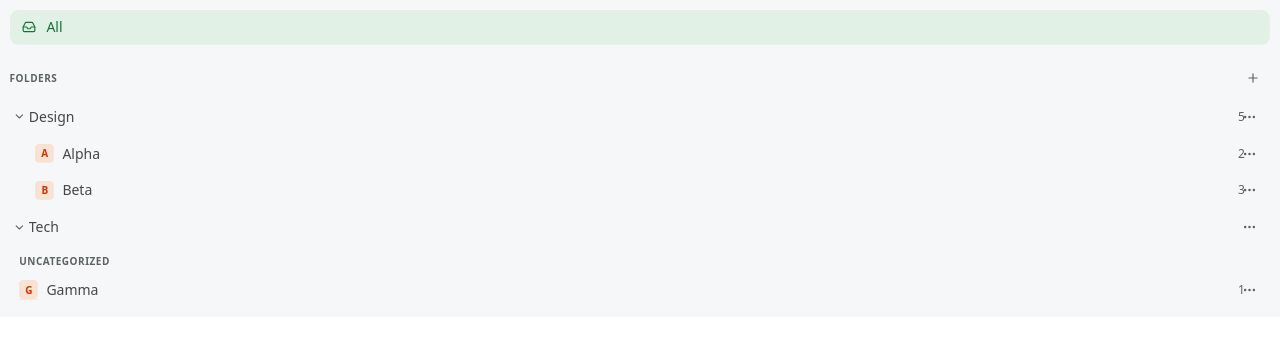
Test: RAD-393: create › creates a folder inline from the + button
This screenshot has width=1280, height=353.
Click the button named "New folder". click: (1253, 78)
box: [1235, 61, 1270, 96]
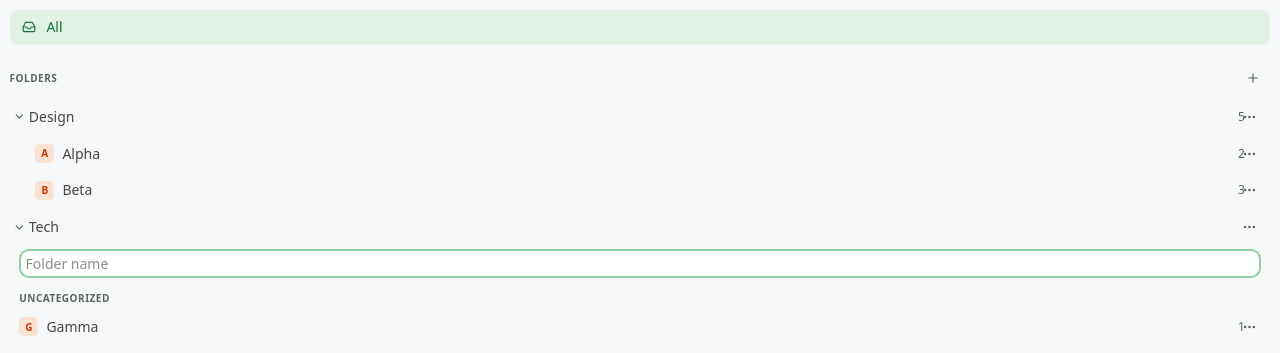
Type "Later" into the field labelled "Folder name". click: (640, 264)
box: [19, 250, 1261, 278]
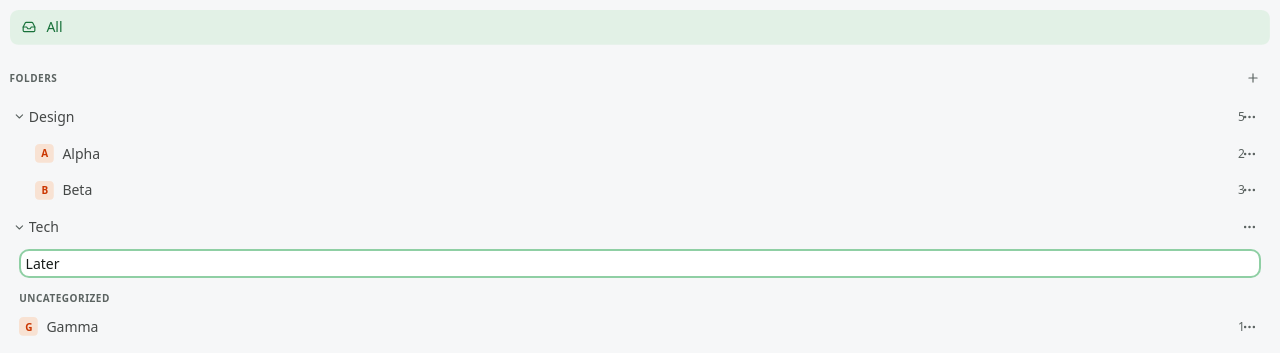
Press Enter
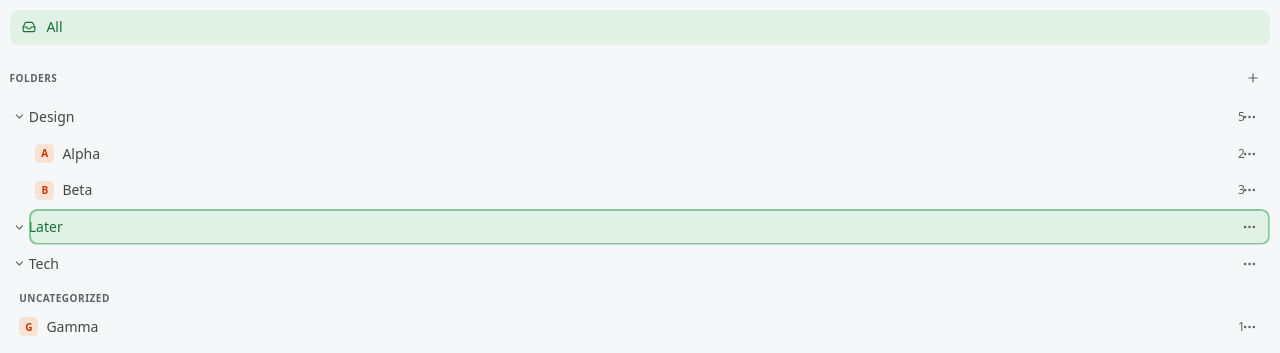
Expected: the field labelled "Folder name" is not shown
Result: the text "Later" is shown at [29, 217, 63, 236]
